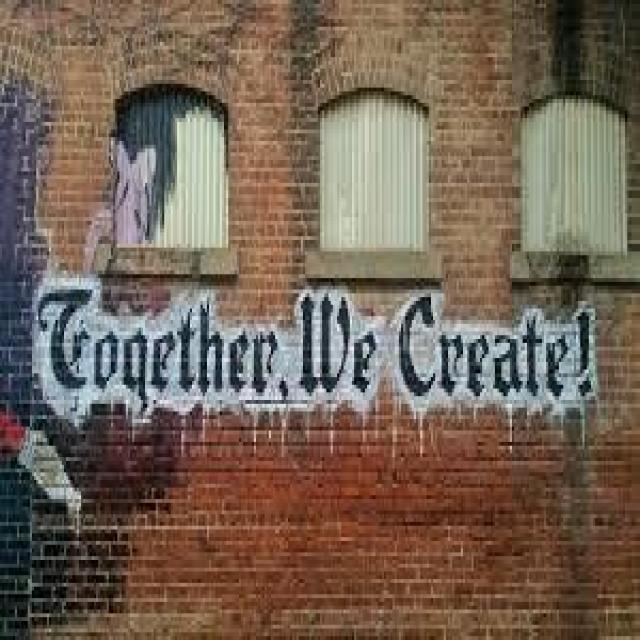nonspitting: (34, 282, 593, 408)
